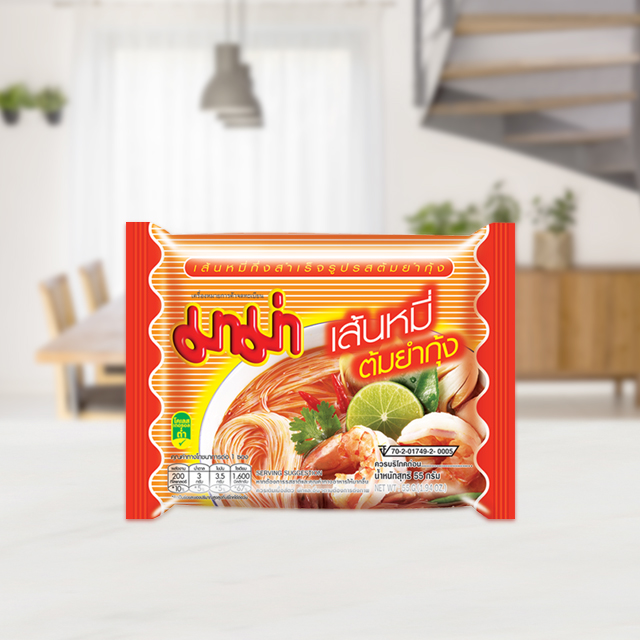Snack: (111, 210, 525, 529)
